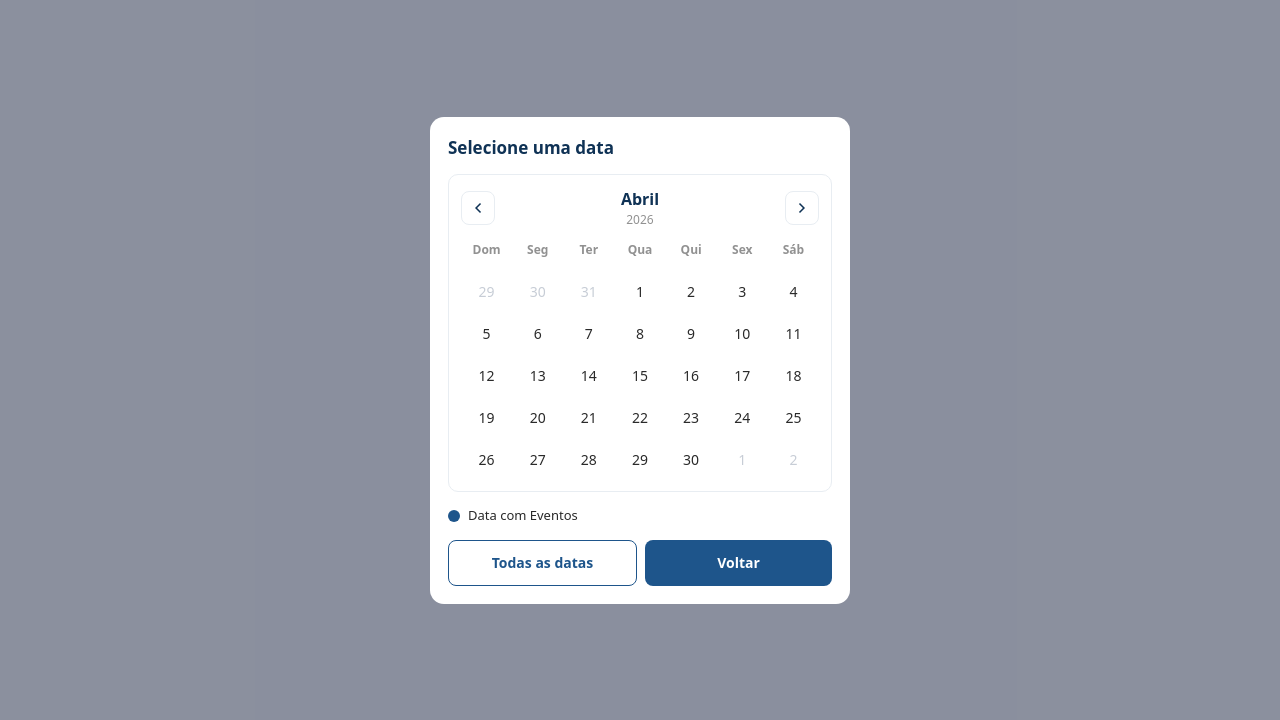
Test: EventCalendarModal › navega entre os meses
The width and height of the screenshot is (1280, 720).
What coordinates should you click on to do the following:
click the button named "Próximo mês"
I would click on:
 (802, 208)
Its box is x1=785 y1=191 x2=819 y2=225.
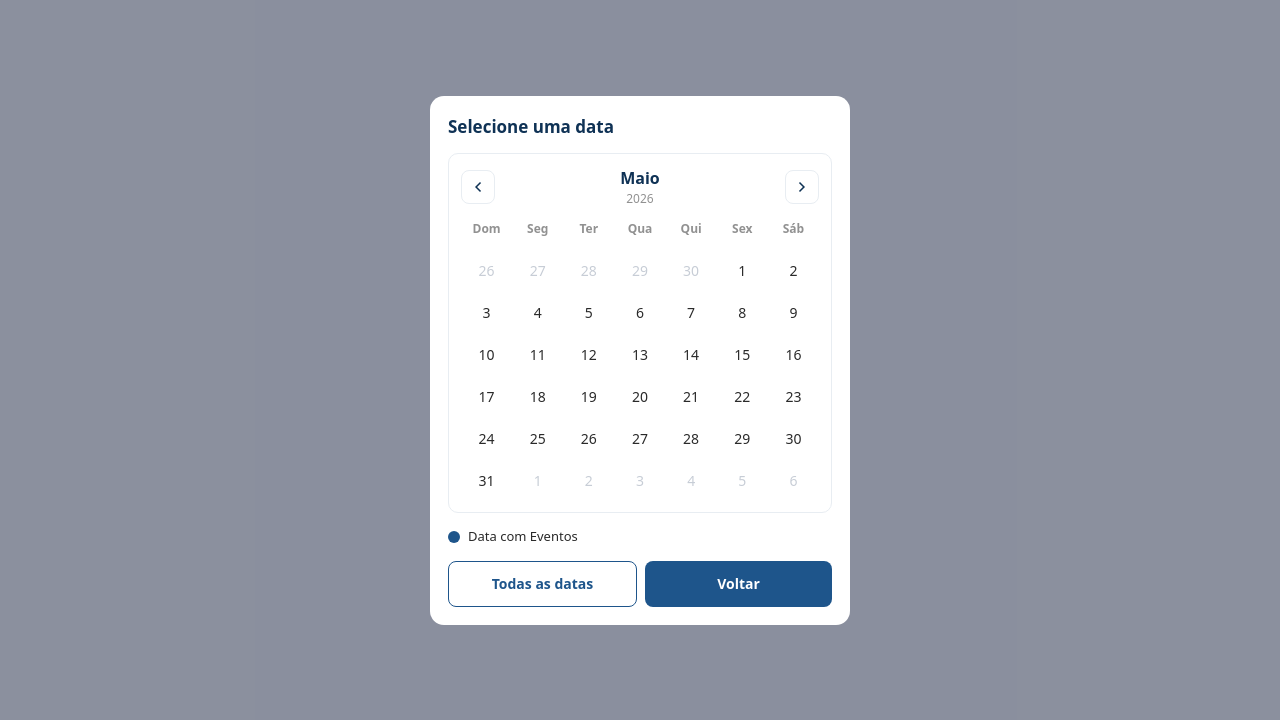
Result: the text "Maio" is shown at x1=620 y1=166 x2=660 y2=190
What coordinates should you click on to do the following:
click the button named "Mês anterior"
I would click on:
 (478, 187)
Its box is x1=461 y1=170 x2=495 y2=204.
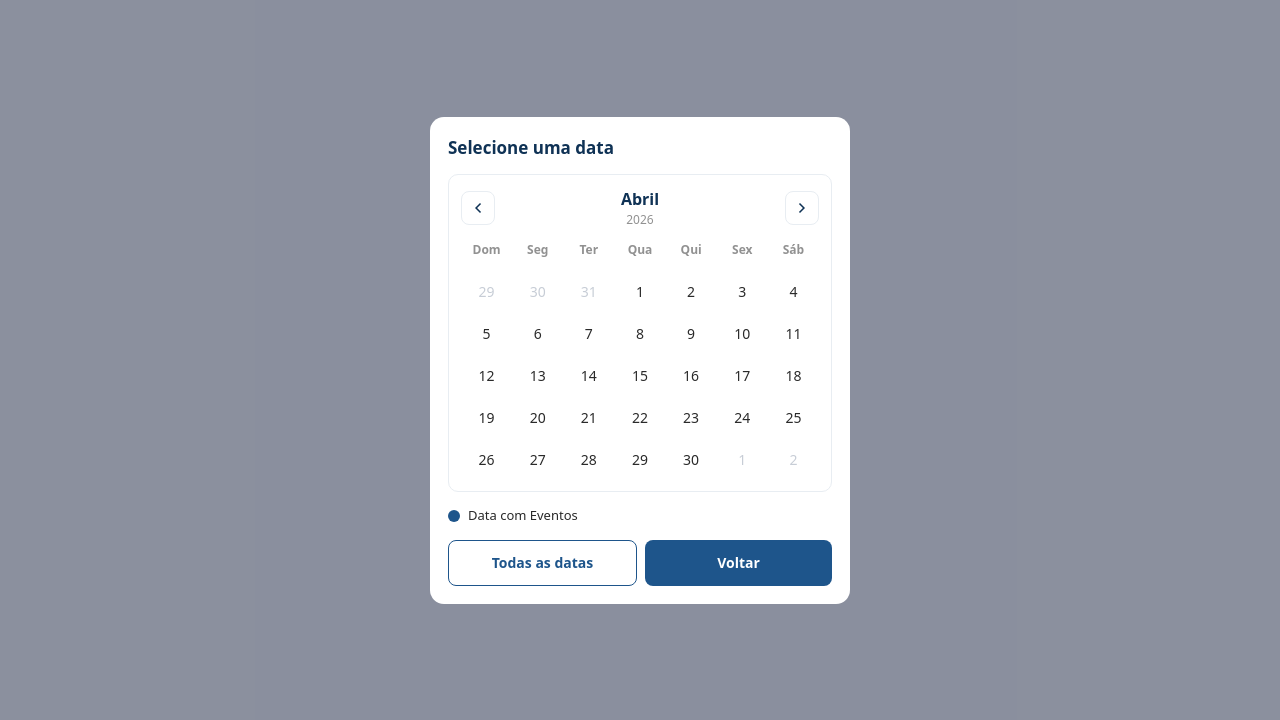
What coordinates should you click on to do the following:
click the button named "Mês anterior"
I would click on:
 (478, 208)
Its box is x1=461 y1=191 x2=495 y2=225.
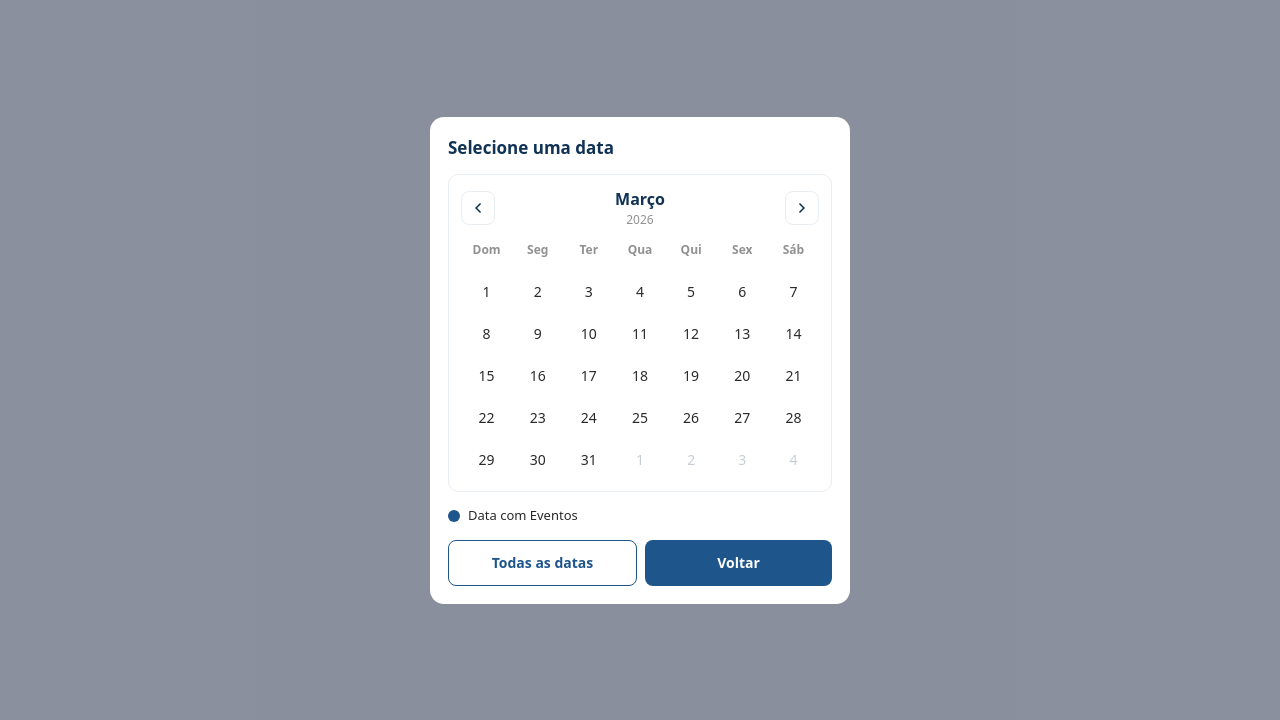
Result: the text "Março" is shown at x1=615 y1=187 x2=665 y2=211
